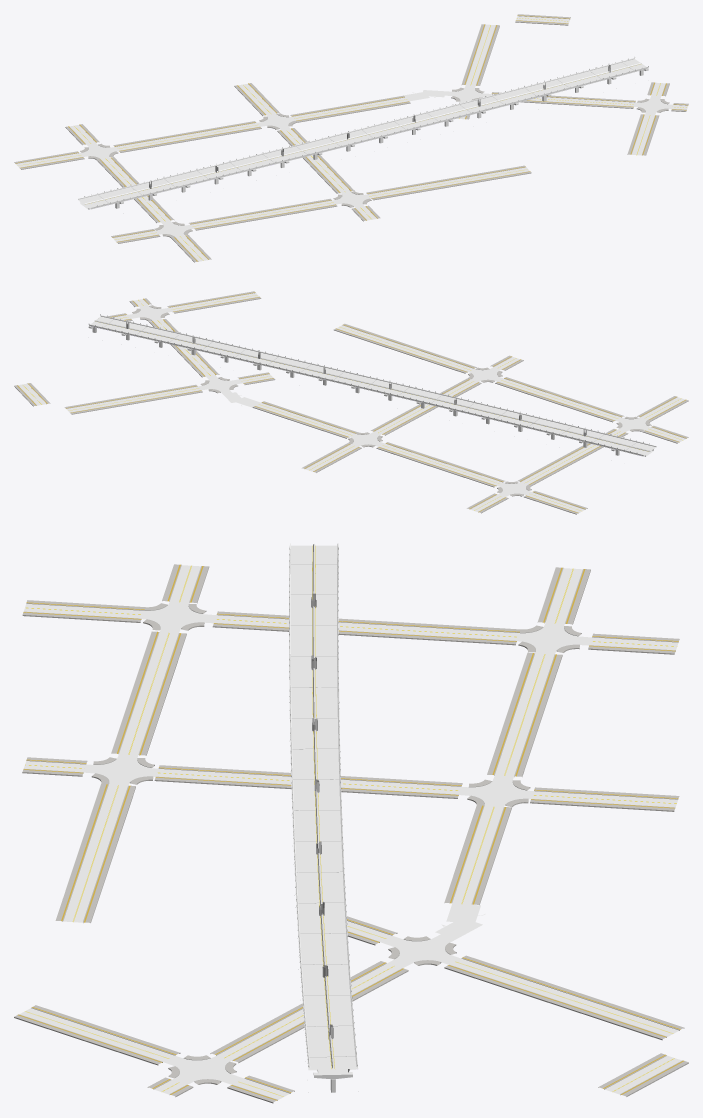
File: roads_-1_3.gltf
3 renders of one model, top to bottom at view 1: azimuth 30°, elevation 25°; view 2: azimuth 150°, elevation 25°; view 3: azimuth 270°, elevation 25°, orthographic. The views are drawn at different scales.
Parts seen in each view (by area): view 1: roads_-1_3_SH_wet_asphalt, roads_-1_3_SH_sidewalk, roads_-1_3_SH_concrete_pier, roads_-1_3_SH_concrete_barrier, roads_-1_3_Road_Tactile_Strip, roads_-1_3_SH_kerb, roads_-1_3_SH_road_marking_white, roads_-1_3_SH_road_marking_yellow; view 2: roads_-1_3_SH_wet_asphalt, roads_-1_3_SH_sidewalk, roads_-1_3_SH_concrete_pier, roads_-1_3_SH_concrete_barrier, roads_-1_3_Road_Tactile_Strip, roads_-1_3_SH_kerb, roads_-1_3_SH_road_marking_yellow, roads_-1_3_SH_road_marking_white; view 3: roads_-1_3_SH_wet_asphalt, roads_-1_3_SH_sidewalk, roads_-1_3_SH_concrete_pier, roads_-1_3_Road_Tactile_Strip, roads_-1_3_SH_kerb, roads_-1_3_SH_road_marking_white, roads_-1_3_SH_road_marking_yellow, roads_-1_3_SH_concrete_barrier, roads_-1_3_planter_row_inner_ring.
Part boxes in pixels (bbox=[...]): roads_-1_3_SH_wet_asphalt: bbox=[16, 16, 687, 261]; roads_-1_3_SH_sidewalk: bbox=[14, 14, 688, 262]; roads_-1_3_SH_concrete_pier: bbox=[78, 59, 648, 209]; roads_-1_3_SH_concrete_barrier: bbox=[78, 58, 648, 208]; roads_-1_3_Road_Tactile_Strip: bbox=[15, 15, 688, 261]; roads_-1_3_SH_kerb: bbox=[15, 15, 687, 261]; roads_-1_3_SH_road_marking_white: bbox=[17, 16, 683, 260]; roads_-1_3_SH_road_marking_yellow: bbox=[23, 18, 686, 260]; roads_-1_3_SH_wet_asphalt: bbox=[18, 293, 685, 512]; roads_-1_3_SH_sidewalk: bbox=[14, 291, 688, 514]; roads_-1_3_SH_concrete_pier: bbox=[88, 316, 655, 456]; roads_-1_3_SH_concrete_barrier: bbox=[89, 315, 656, 455]; roads_-1_3_Road_Tactile_Strip: bbox=[17, 292, 686, 512]; roads_-1_3_SH_kerb: bbox=[17, 292, 686, 512]; roads_-1_3_SH_road_marking_yellow: bbox=[23, 295, 682, 510]; roads_-1_3_SH_road_marking_white: bbox=[20, 293, 683, 509]; roads_-1_3_SH_wet_asphalt: bbox=[20, 545, 681, 1099]; roads_-1_3_SH_sidewalk: bbox=[14, 564, 688, 1103]; roads_-1_3_SH_concrete_pier: bbox=[289, 545, 358, 1092]; roads_-1_3_Road_Tactile_Strip: bbox=[18, 564, 683, 1100]; roads_-1_3_SH_kerb: bbox=[19, 564, 682, 1100]; roads_-1_3_SH_road_marking_white: bbox=[26, 545, 680, 1094]; roads_-1_3_SH_road_marking_yellow: bbox=[25, 546, 677, 1096]; roads_-1_3_SH_concrete_barrier: bbox=[289, 543, 356, 1069]; roads_-1_3_planter_row_inner_ring: bbox=[289, 550, 357, 1066].
Size of what is drawn, in the model's own units: 524 by 16.38 by 278.
